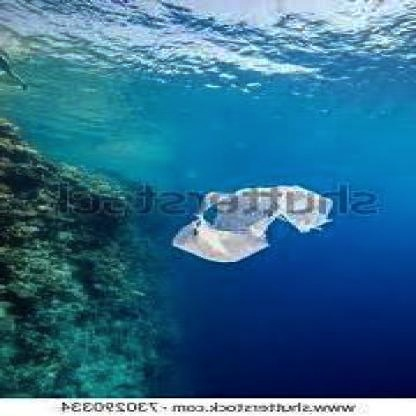pbag: (171, 184, 335, 265)
